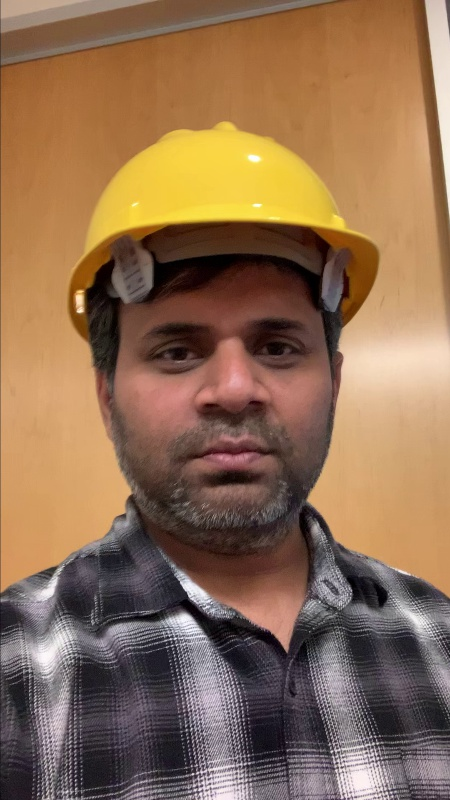helmet: (63, 119, 381, 316)
